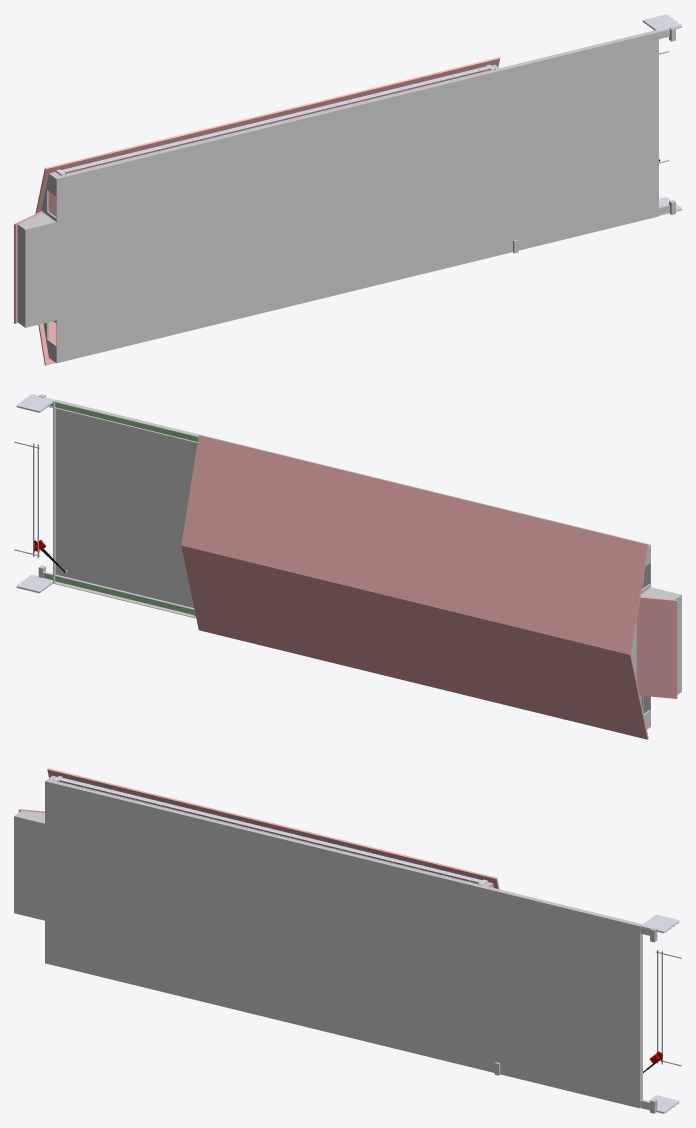
File: stall.glb
The picture shows the model from 3 angles, top to bottom: view 1: azimuth 30°, elevation 25°; view 2: azimuth 150°, elevation 25°; view 3: azimuth 330°, elevation 25°; orthographic projection.
Visible parts, largest first — view 1: Schnitt-Linear austragen14, Aufsatz-Linear austragen6, Aufsatz-Linear austragen1 (×2); view 2: Aufsatz-Linear austragen1 (×3), Schnitt-Linear austragen14, Aufsatz-Linear austragen6, Aufsatz-Linear austragen2 (×2); view 3: Schnitt-Linear austragen14, Aufsatz-Linear austragen6, Aufsatz-Linear austragen1 (×2).
Part boxes in pixels (x1,y1,x2,y2): Schnitt-Linear austragen14: (17, 64, 502, 363); Aufsatz-Linear austragen6: (500, 30, 658, 254); Aufsatz-Linear austragen1 (×2): (35, 57, 500, 365); Aufsatz-Linear austragen1 (×3): (56, 409, 677, 739); Schnitt-Linear austragen14: (210, 437, 681, 729); Aufsatz-Linear austragen6: (53, 399, 209, 618); Aufsatz-Linear austragen2 (×2): (43, 402, 198, 614); Schnitt-Linear austragen14: (14, 775, 493, 1070); Aufsatz-Linear austragen6: (485, 886, 642, 1108); Aufsatz-Linear austragen1 (×2): (47, 768, 499, 889).
Size of the model in its own units: 127 by 36.22 by 8.81.
